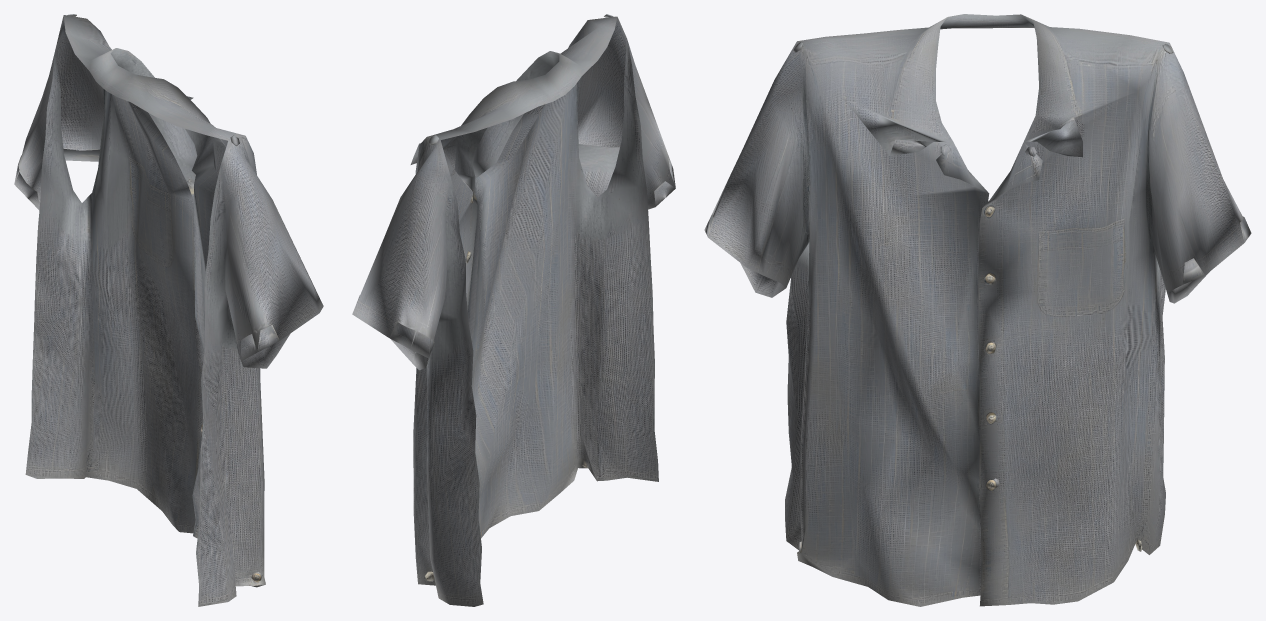
3 views of the same model, side by side, from view 1: azimuth 30°, elevation 25°; view 2: azimuth 150°, elevation 25°; view 3: azimuth 270°, elevation 25° (orthographic). The views are drawn at different scales.
Visible parts, largest first — view 1: tripo_node_19b1683e-3675-4881-bb7a-2c52c3ae8e45; view 2: tripo_node_19b1683e-3675-4881-bb7a-2c52c3ae8e45; view 3: tripo_node_19b1683e-3675-4881-bb7a-2c52c3ae8e45.
Boxes of the visible parts, left/top/right/bottom form: tripo_node_19b1683e-3675-4881-bb7a-2c52c3ae8e45: left=14, top=14, right=323, bottom=606; tripo_node_19b1683e-3675-4881-bb7a-2c52c3ae8e45: left=352, top=14, right=675, bottom=606; tripo_node_19b1683e-3675-4881-bb7a-2c52c3ae8e45: left=704, top=14, right=1251, bottom=606.
Size of the model in its own units: 0.248 by 0.998 by 0.9004.
Materials: 1 (1 with a texture image).
